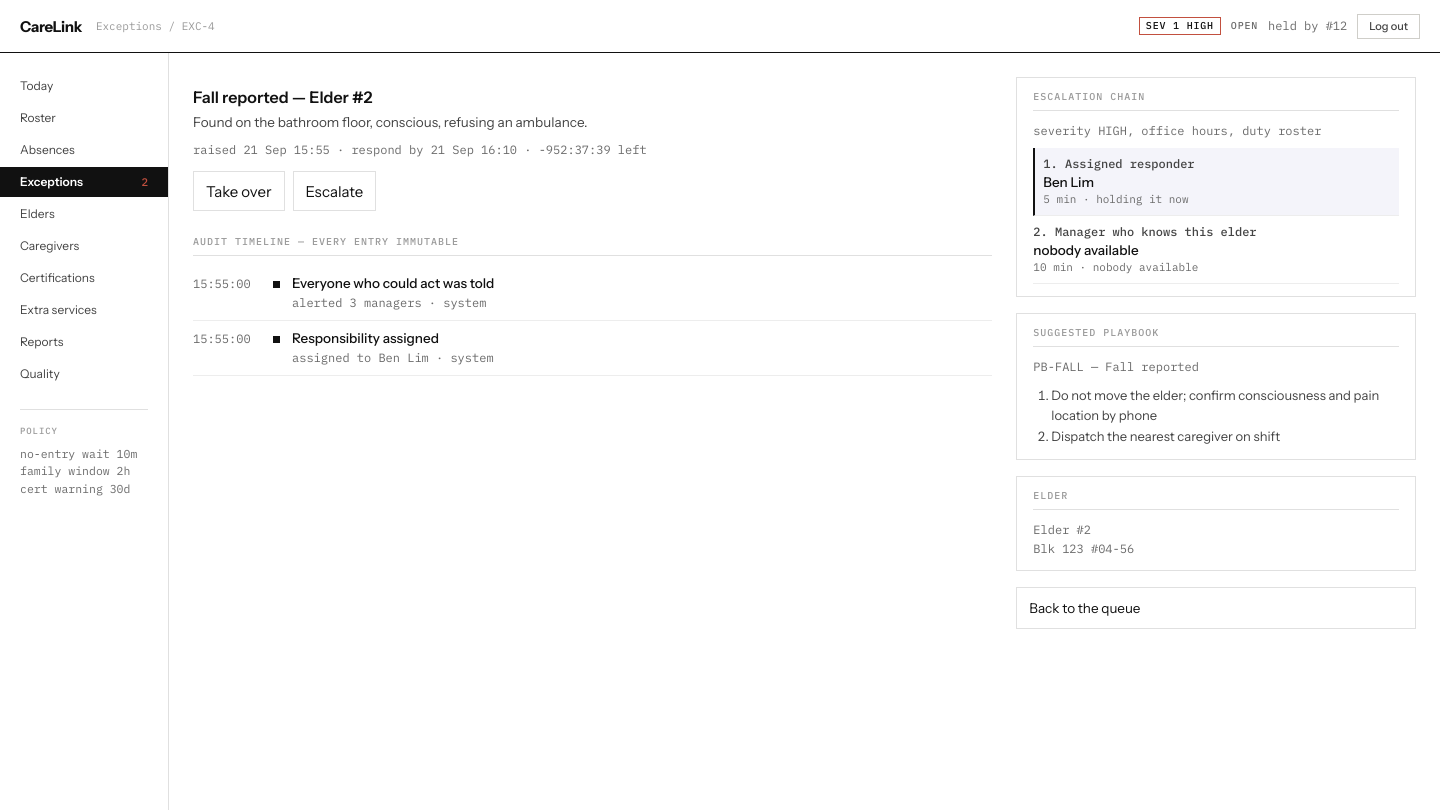
Test: the take-over workbench › shows why somebody else’s incident cannot be closed, and stays on the screen
This screenshot has width=1440, height=810.
Click the button "Take over" at {"x": 239, "y": 191}, box [193,171,284,211]
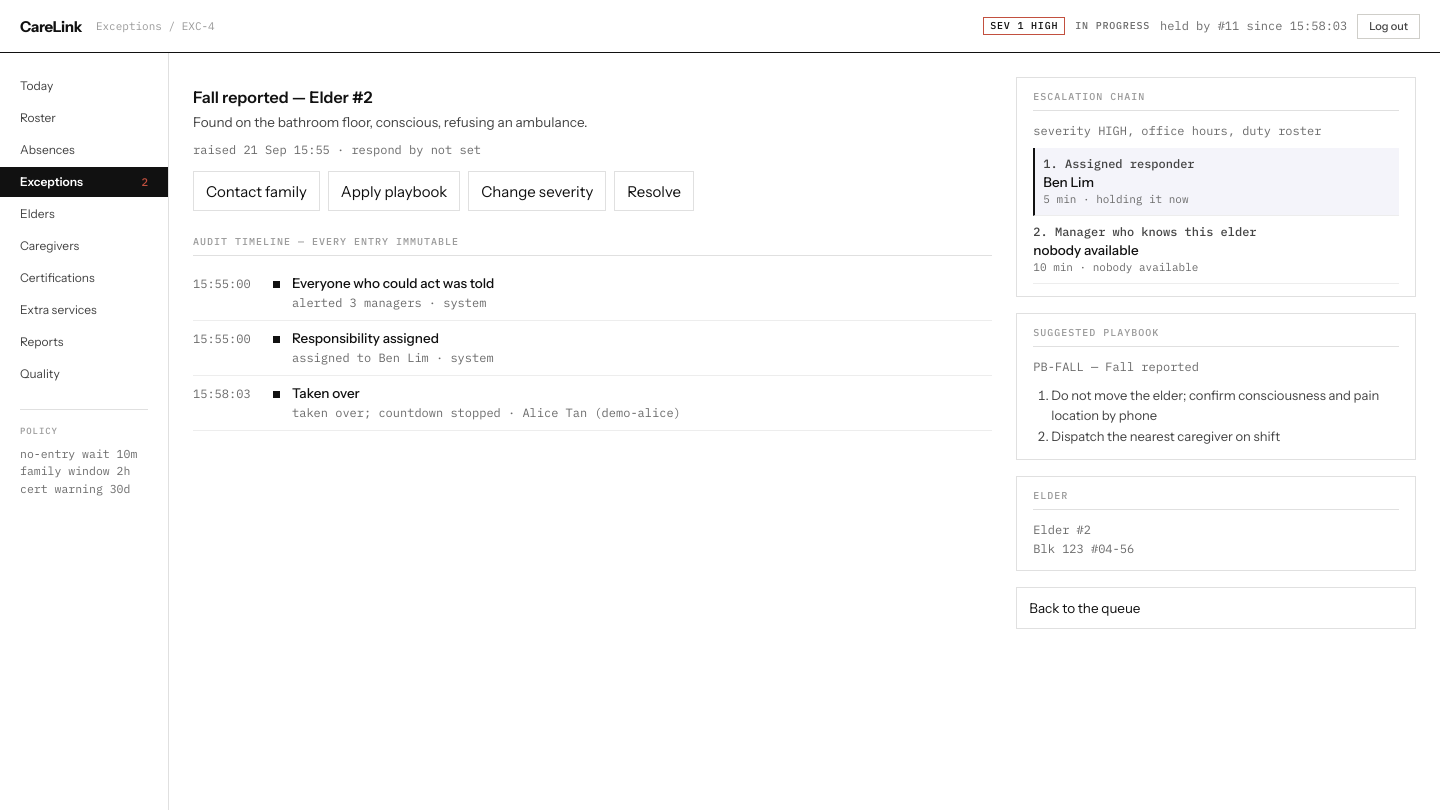
Click the button "Resolve" at {"x": 654, "y": 191}, box [614,171,694,211]
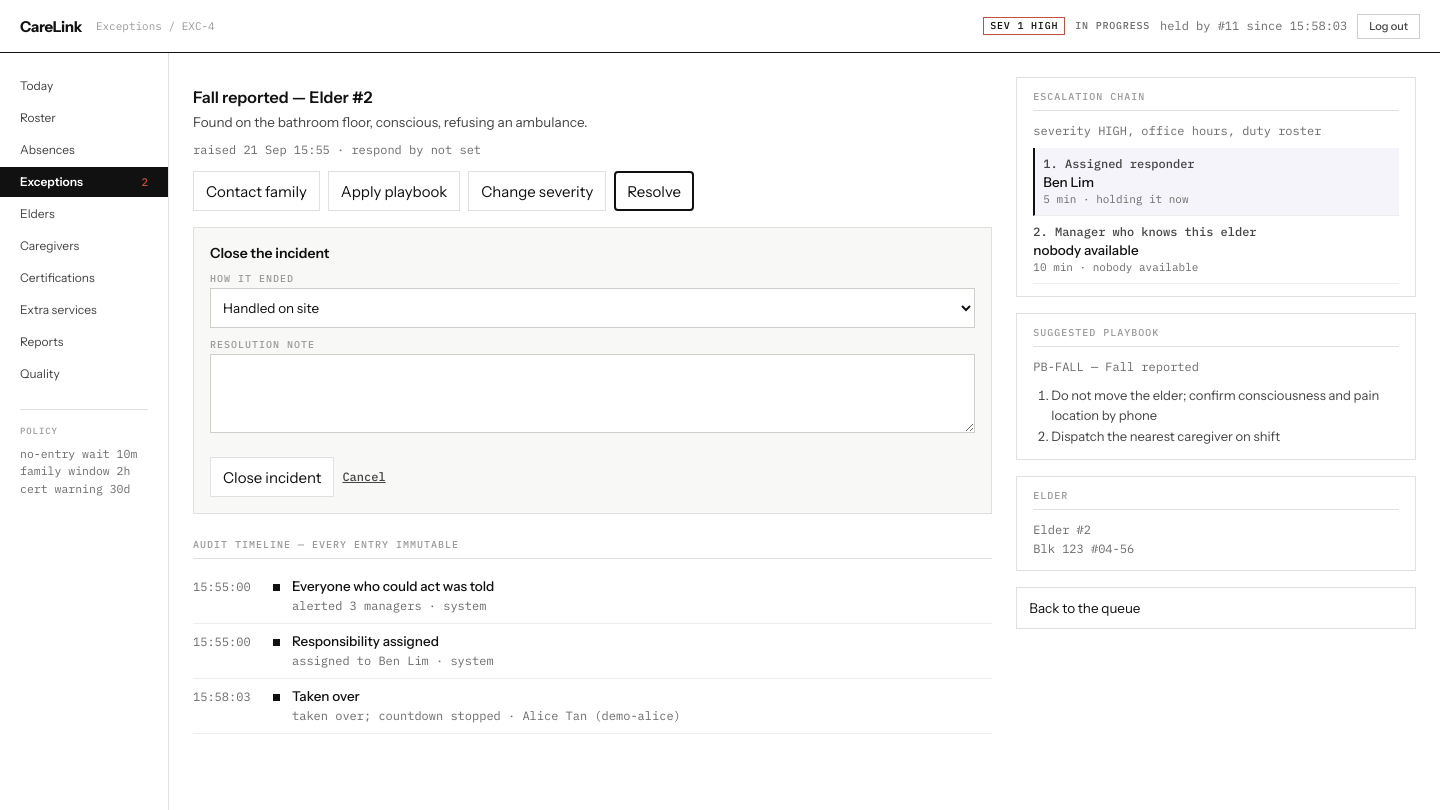
Type "not mine to close" into the text box labelled "Resolution note" at {"x": 593, "y": 394}, box [210,354,975,433]
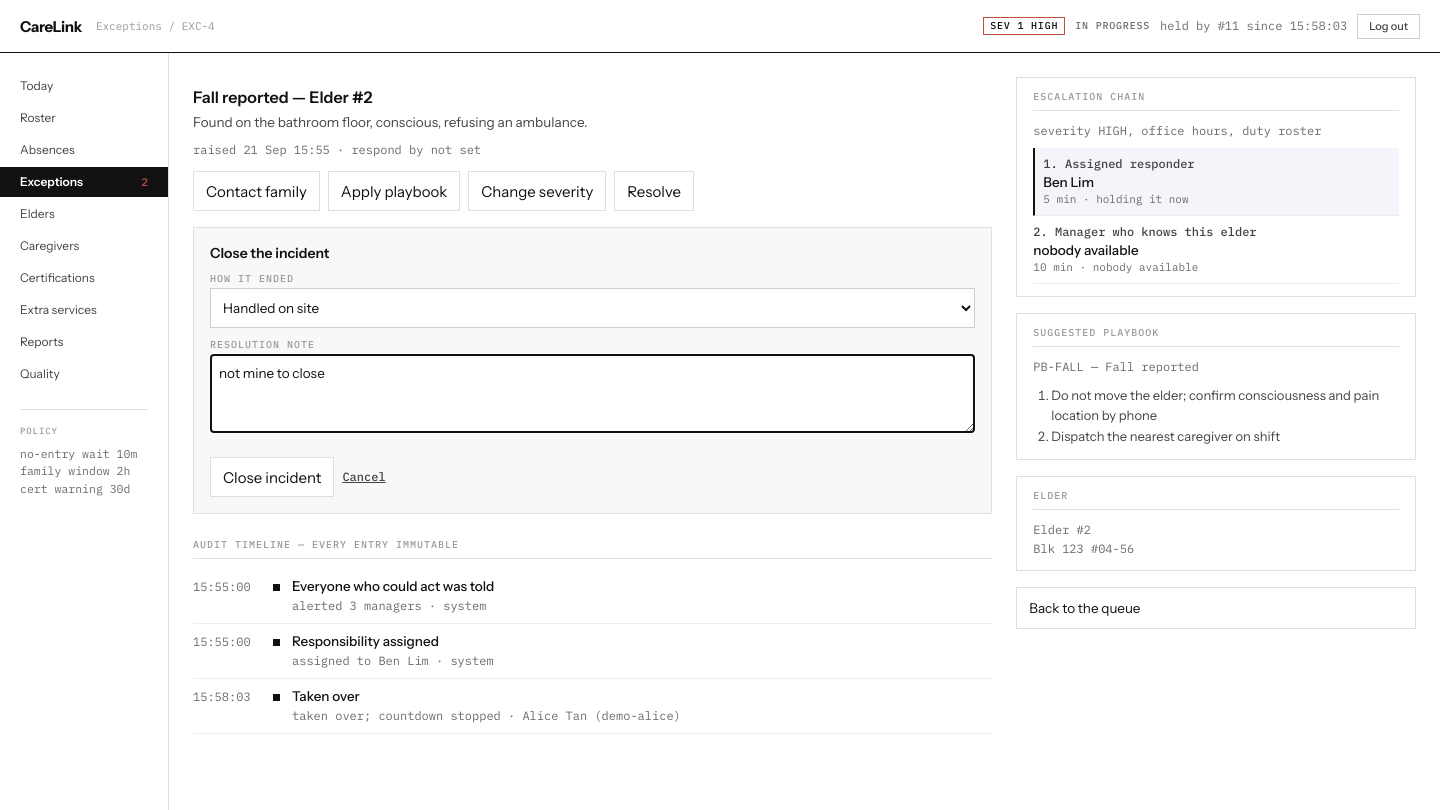
Click the button "Close incident" at {"x": 272, "y": 477}, box [210,457,334,497]
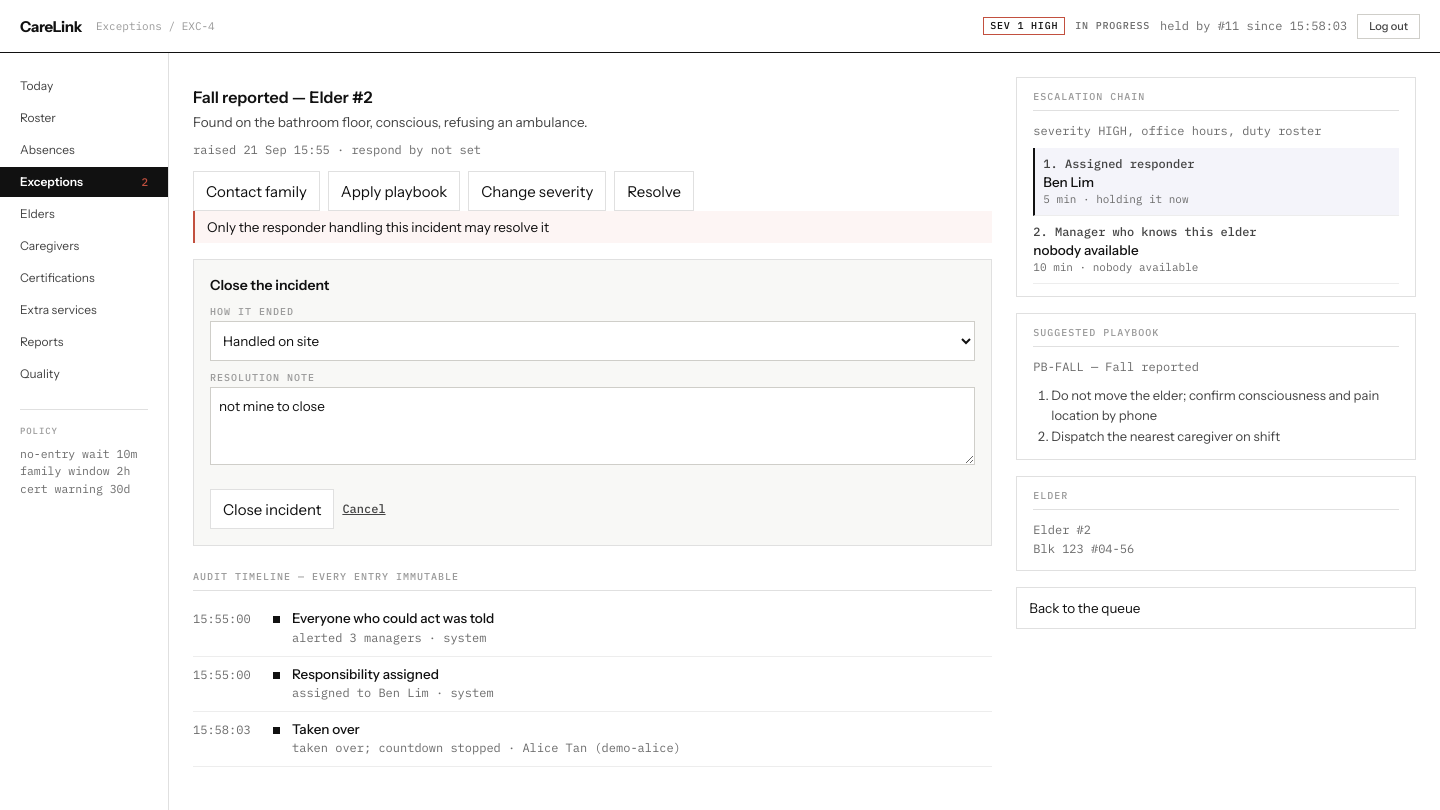
Expected: the heading "Audit timeline — every entry immutable" is shown, [193,570,992,591]
Result: the text "In progress" is shown at [1075,21,1150,31]
Result: the message reads "Only the responder handling this incident may resolve it" at [207,219,549,235]
